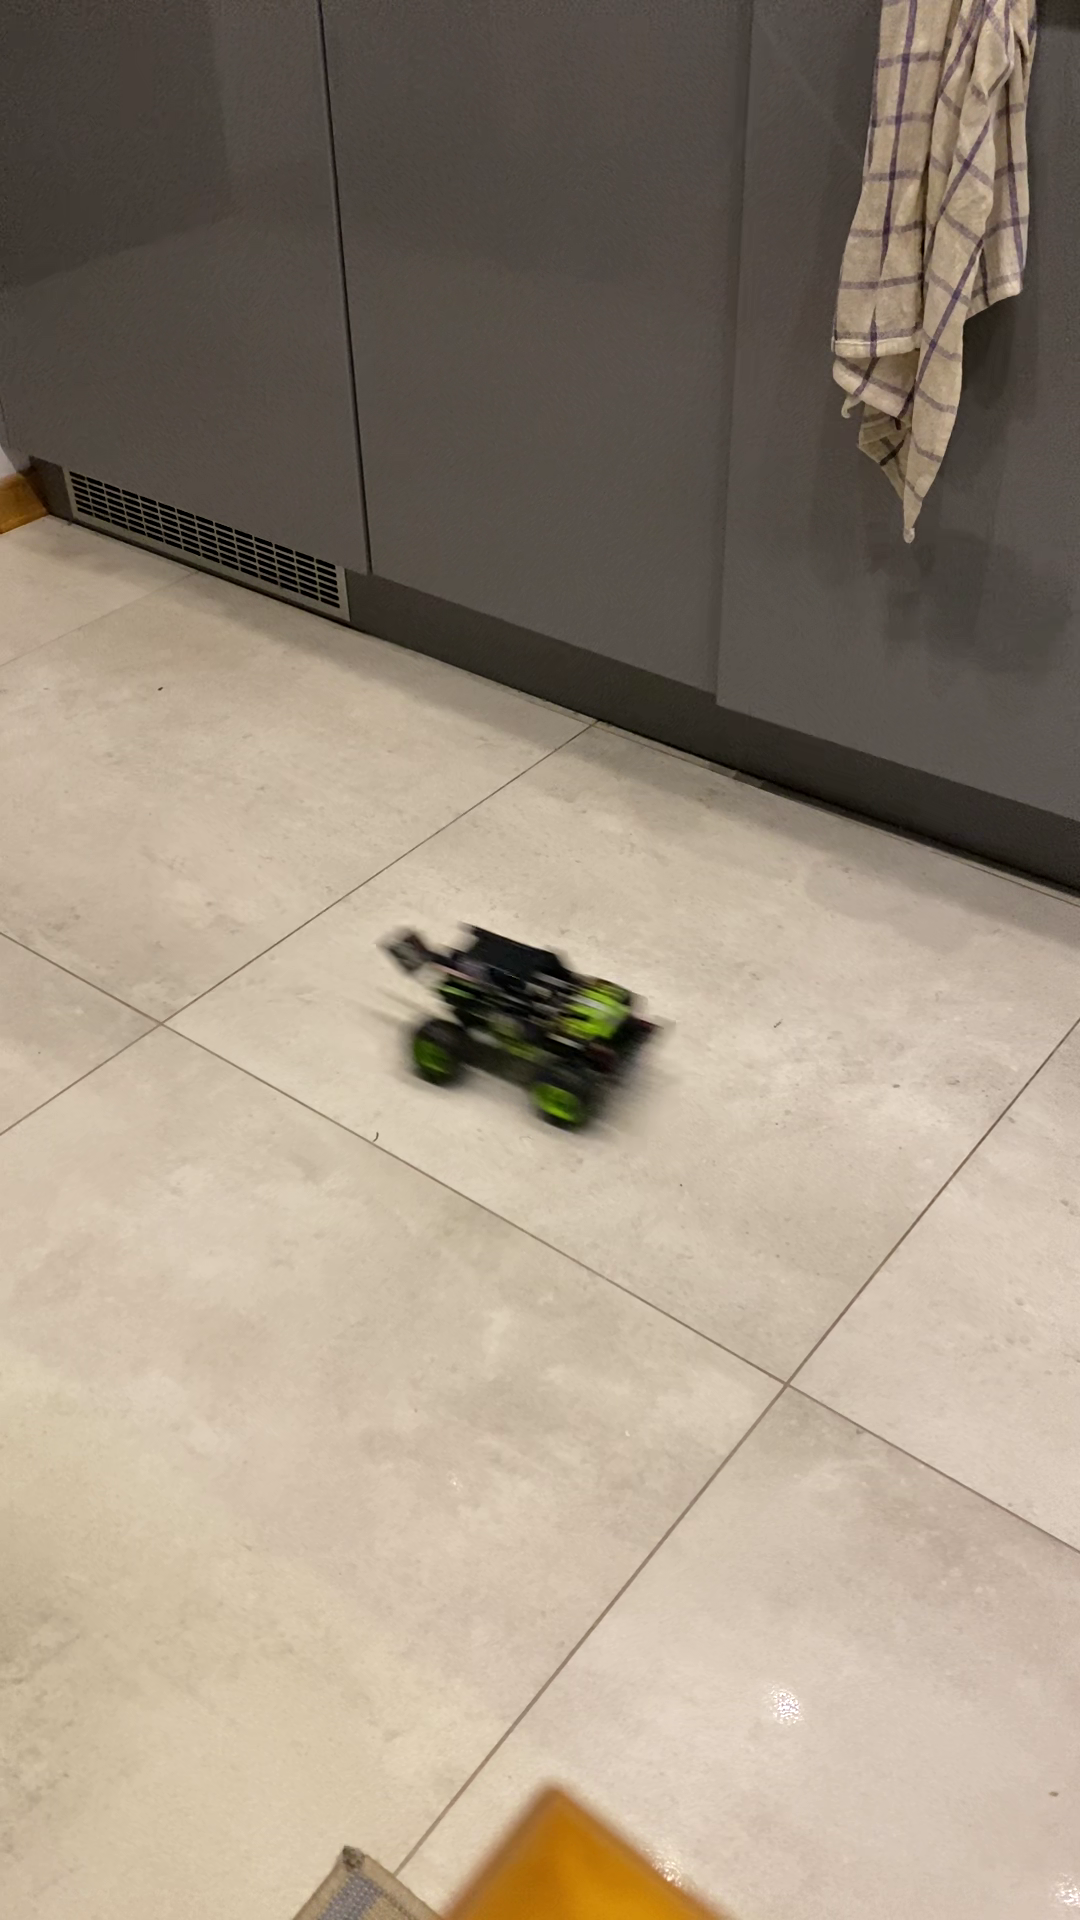car: (386, 926, 658, 1131)
